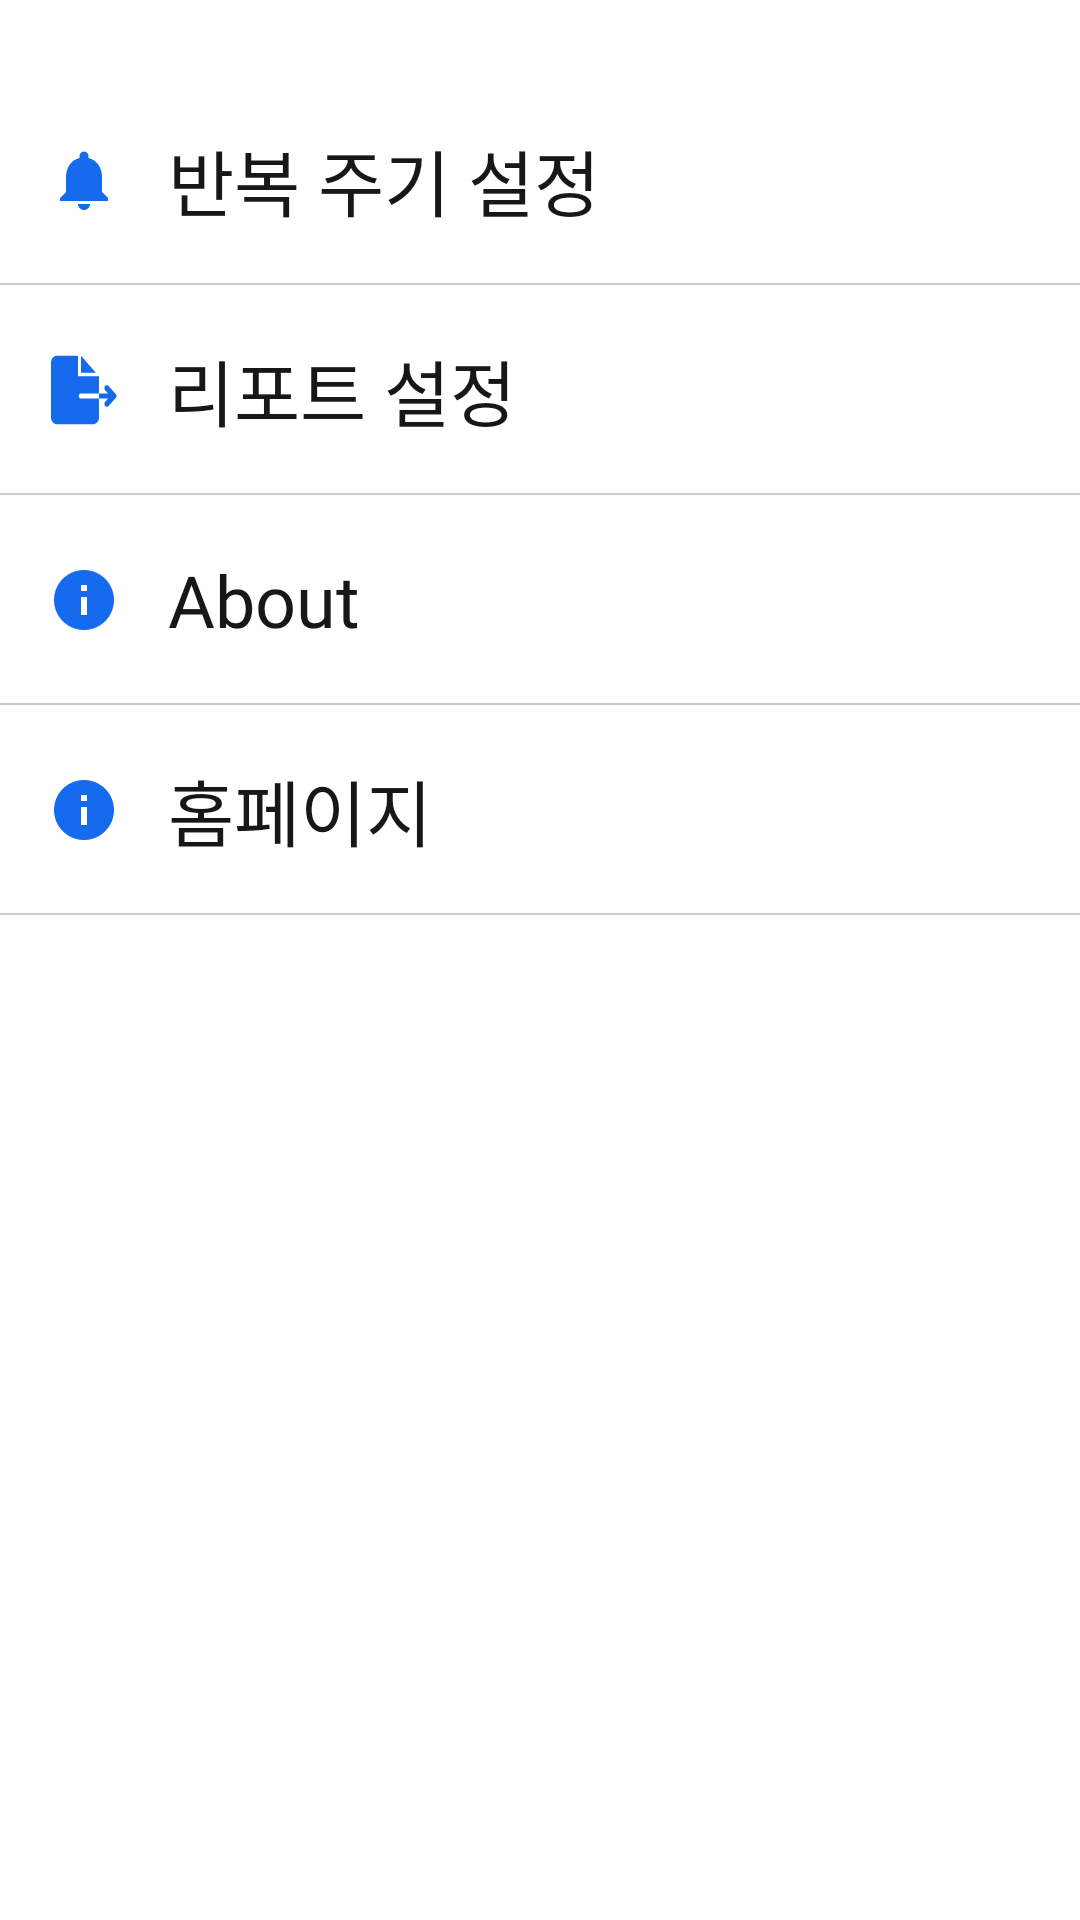

Icon bounding boxes for this 1080px×1920px phone screenshot, format box(x1, y1, x2, y2):
alarm: box(60, 151, 108, 210)
export: box(51, 355, 117, 425)
info: box(54, 570, 114, 630), box(54, 780, 114, 840)
